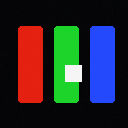1 square: (65, 65, 81, 81)
